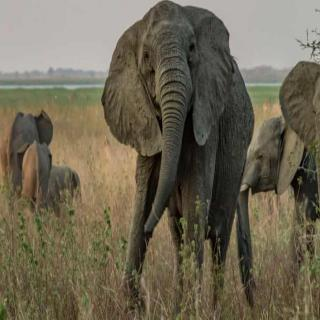Elephant: (101, 0, 235, 320), (239, 104, 308, 300), (18, 133, 55, 207)
